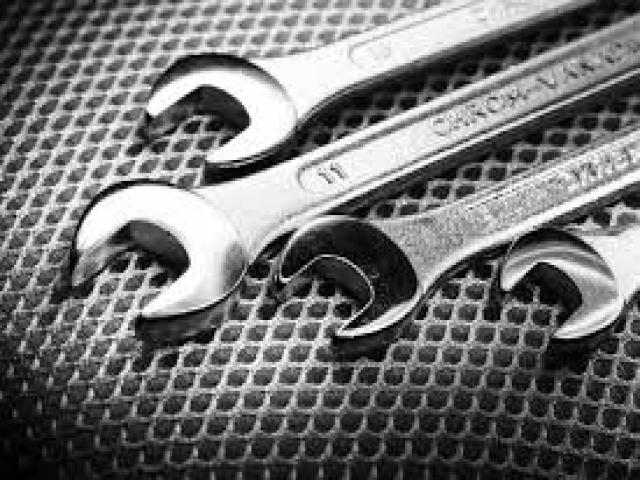Wrench: (71, 13, 640, 320), (269, 114, 640, 350), (146, 1, 580, 168), (503, 224, 640, 346)
